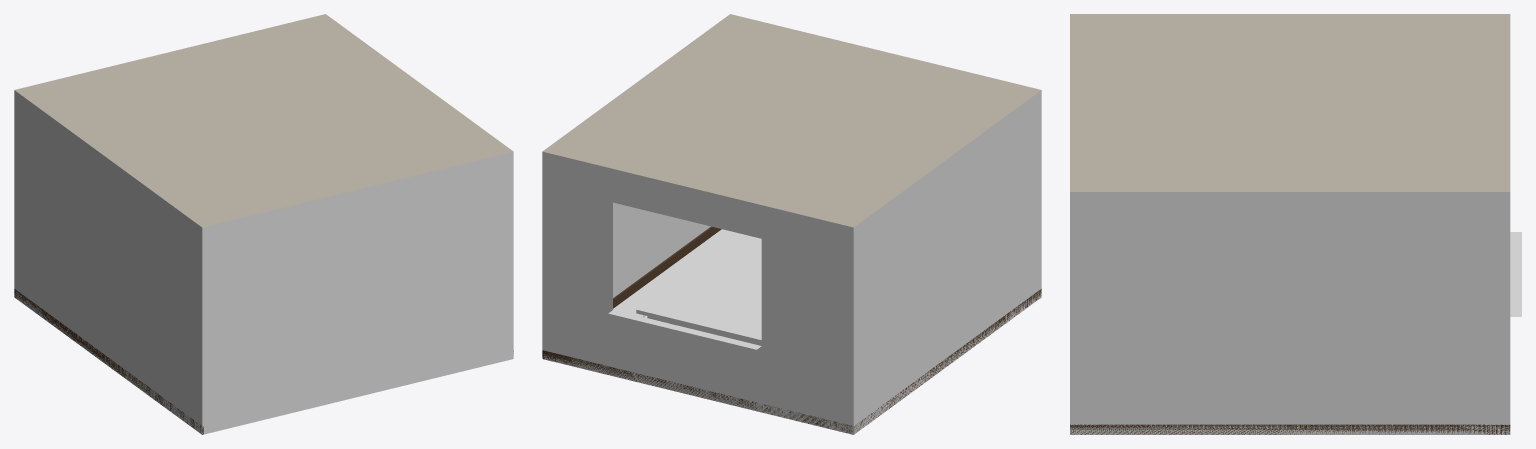
Rendered from room_baked.glb.
The picture shows the model from 3 angles, left to right: view 1: azimuth 30°, elevation 25°; view 2: azimuth 150°, elevation 25°; view 3: azimuth 270°, elevation 25°; orthographic projection. The views are drawn at different scales.
Parts seen in each view (by area): view 1: room_static; view 2: room_static; view 3: room_static.
Part boxes in pixels (x1,y1,x2,y2): room_static: (14, 14, 513, 434); room_static: (542, 14, 1041, 434); room_static: (1070, 14, 1521, 434).
Size of the model in its own units: 4.4 by 2.8 by 4.72.
